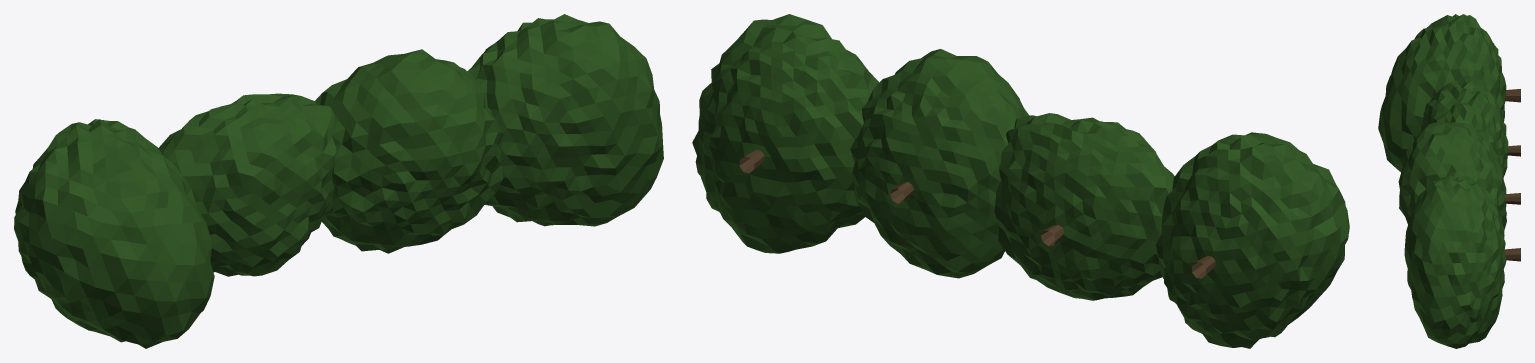
The model's file is citrus_run4_f.obj.
3 renders of one model, left to right at view 1: azimuth 30°, elevation 25°; view 2: azimuth 150°, elevation 25°; view 3: azimuth 270°, elevation 25°, orthographic. The views are drawn at different scales.
Parts seen in each view (by area): view 1: canopy; view 2: canopy, trunk; view 3: canopy, trunk.
Boxes of the visible parts, x1=… form: canopy: x1=14, y1=14, x2=663, y2=348; canopy: x1=692, y1=14, x2=1349, y2=348; trunk: x1=739, y1=149, x2=1215, y2=278; canopy: x1=1378, y1=14, x2=1508, y2=348; trunk: x1=1504, y1=89, x2=1520, y2=261.
Size of the model in its own units: 12.72 by 4.3 by 3.49.
